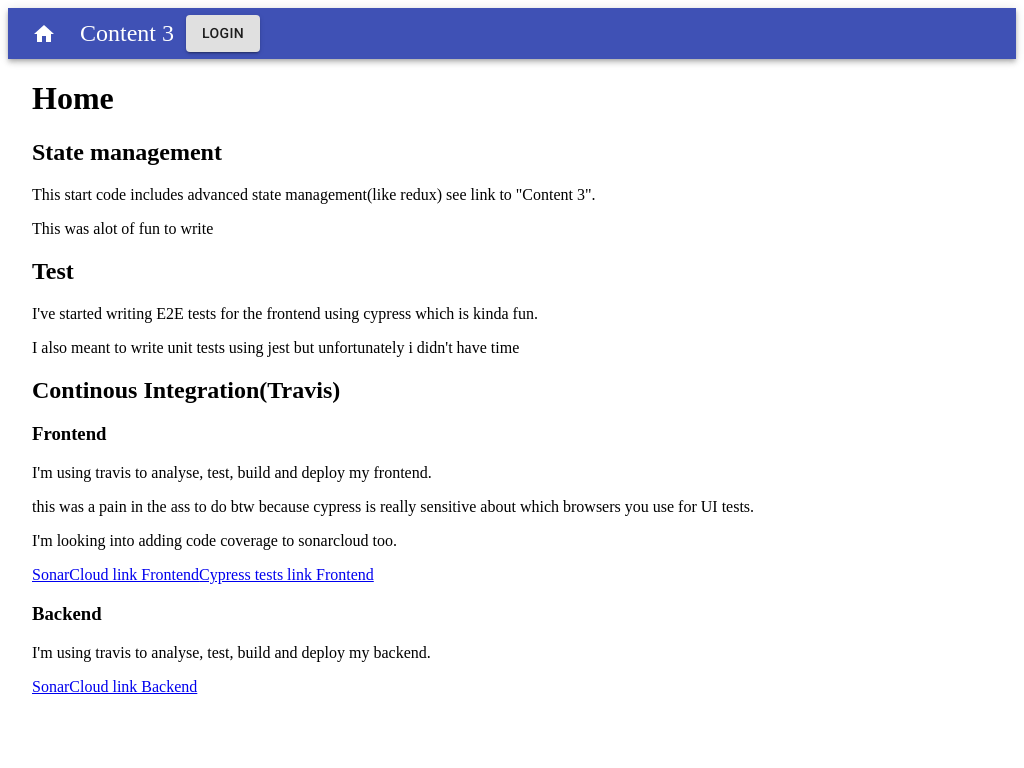
it: Login › Visits login
The image size is (1024, 768).
What coordinates should you click on to do the following:
click the text "Login"
I would click on:
 (223, 34)
Its box is [202,21,244,46].
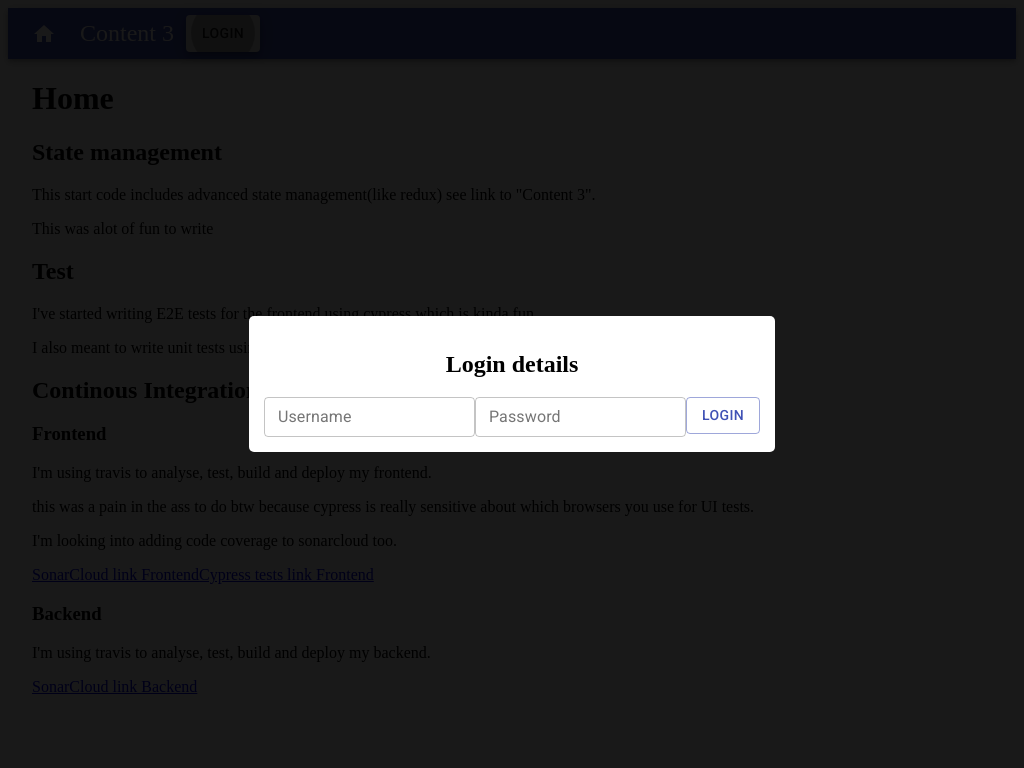
Check: the heading "Login details" is shown, box [446,350,578,376]
